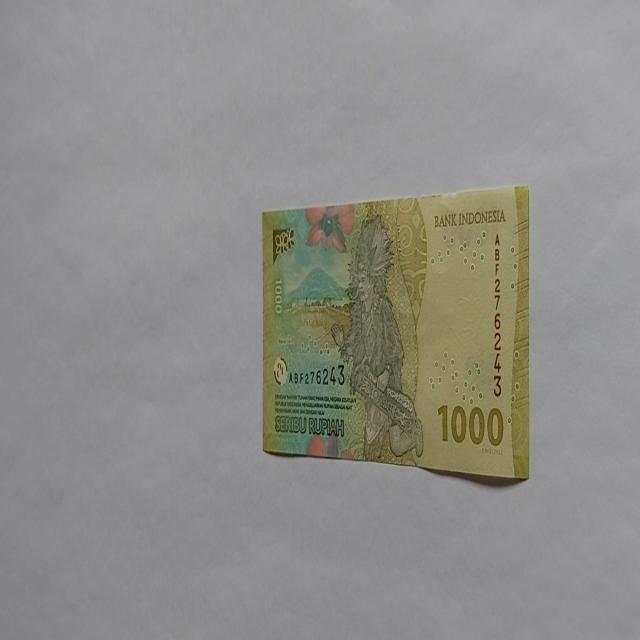seribu rupiah kertas: (261, 183, 530, 483)
